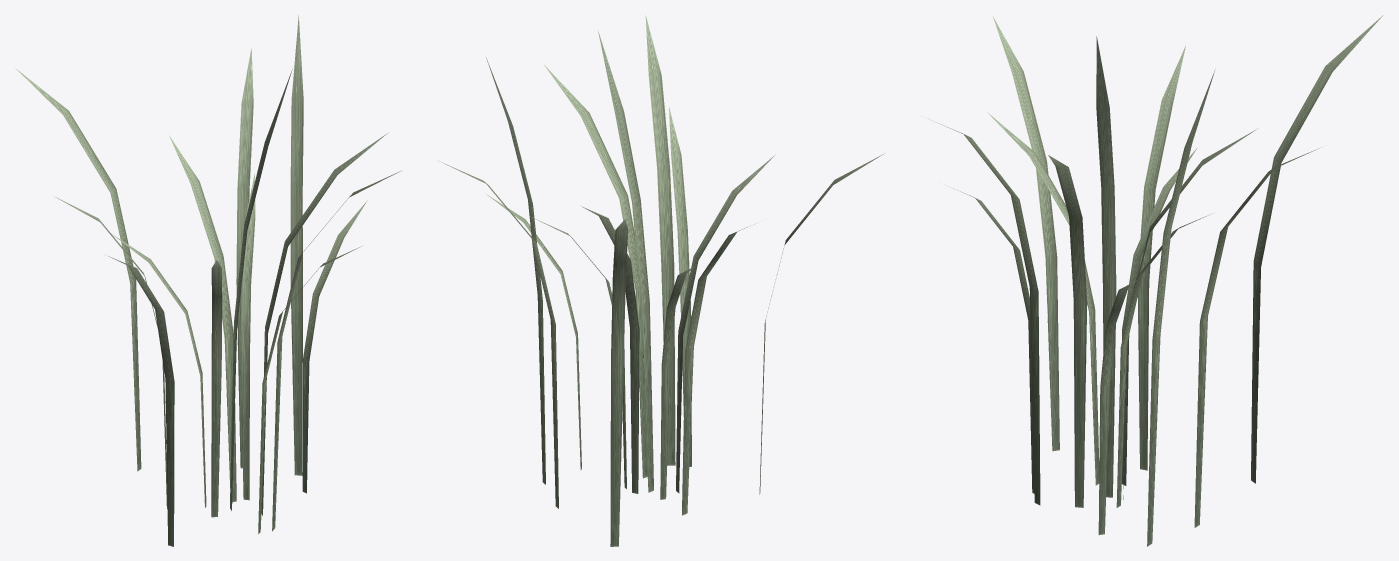
Rendered from Grass - Grass2 4-CLv-k2qa.glb.
3 views of the same model, side by side, from view 1: azimuth 30°, elevation 25°; view 2: azimuth 150°, elevation 25°; view 3: azimuth 270°, elevation 25° (orthographic). The views are drawn at different scales.
Visible parts, largest first — view 1: Grass2_4_LOD0; view 2: Grass2_4_LOD0; view 3: Grass2_4_LOD0.
Boxes of the visible parts, <box> form: Grass2_4_LOD0: <box>15,15,402,546</box>; Grass2_4_LOD0: <box>439,15,884,546</box>; Grass2_4_LOD0: <box>924,15,1383,546</box>.
Bounding box in the file's own units: 0.6024 × 0.7603 × 0.654.
Materials: 1 (1 with a texture image).
